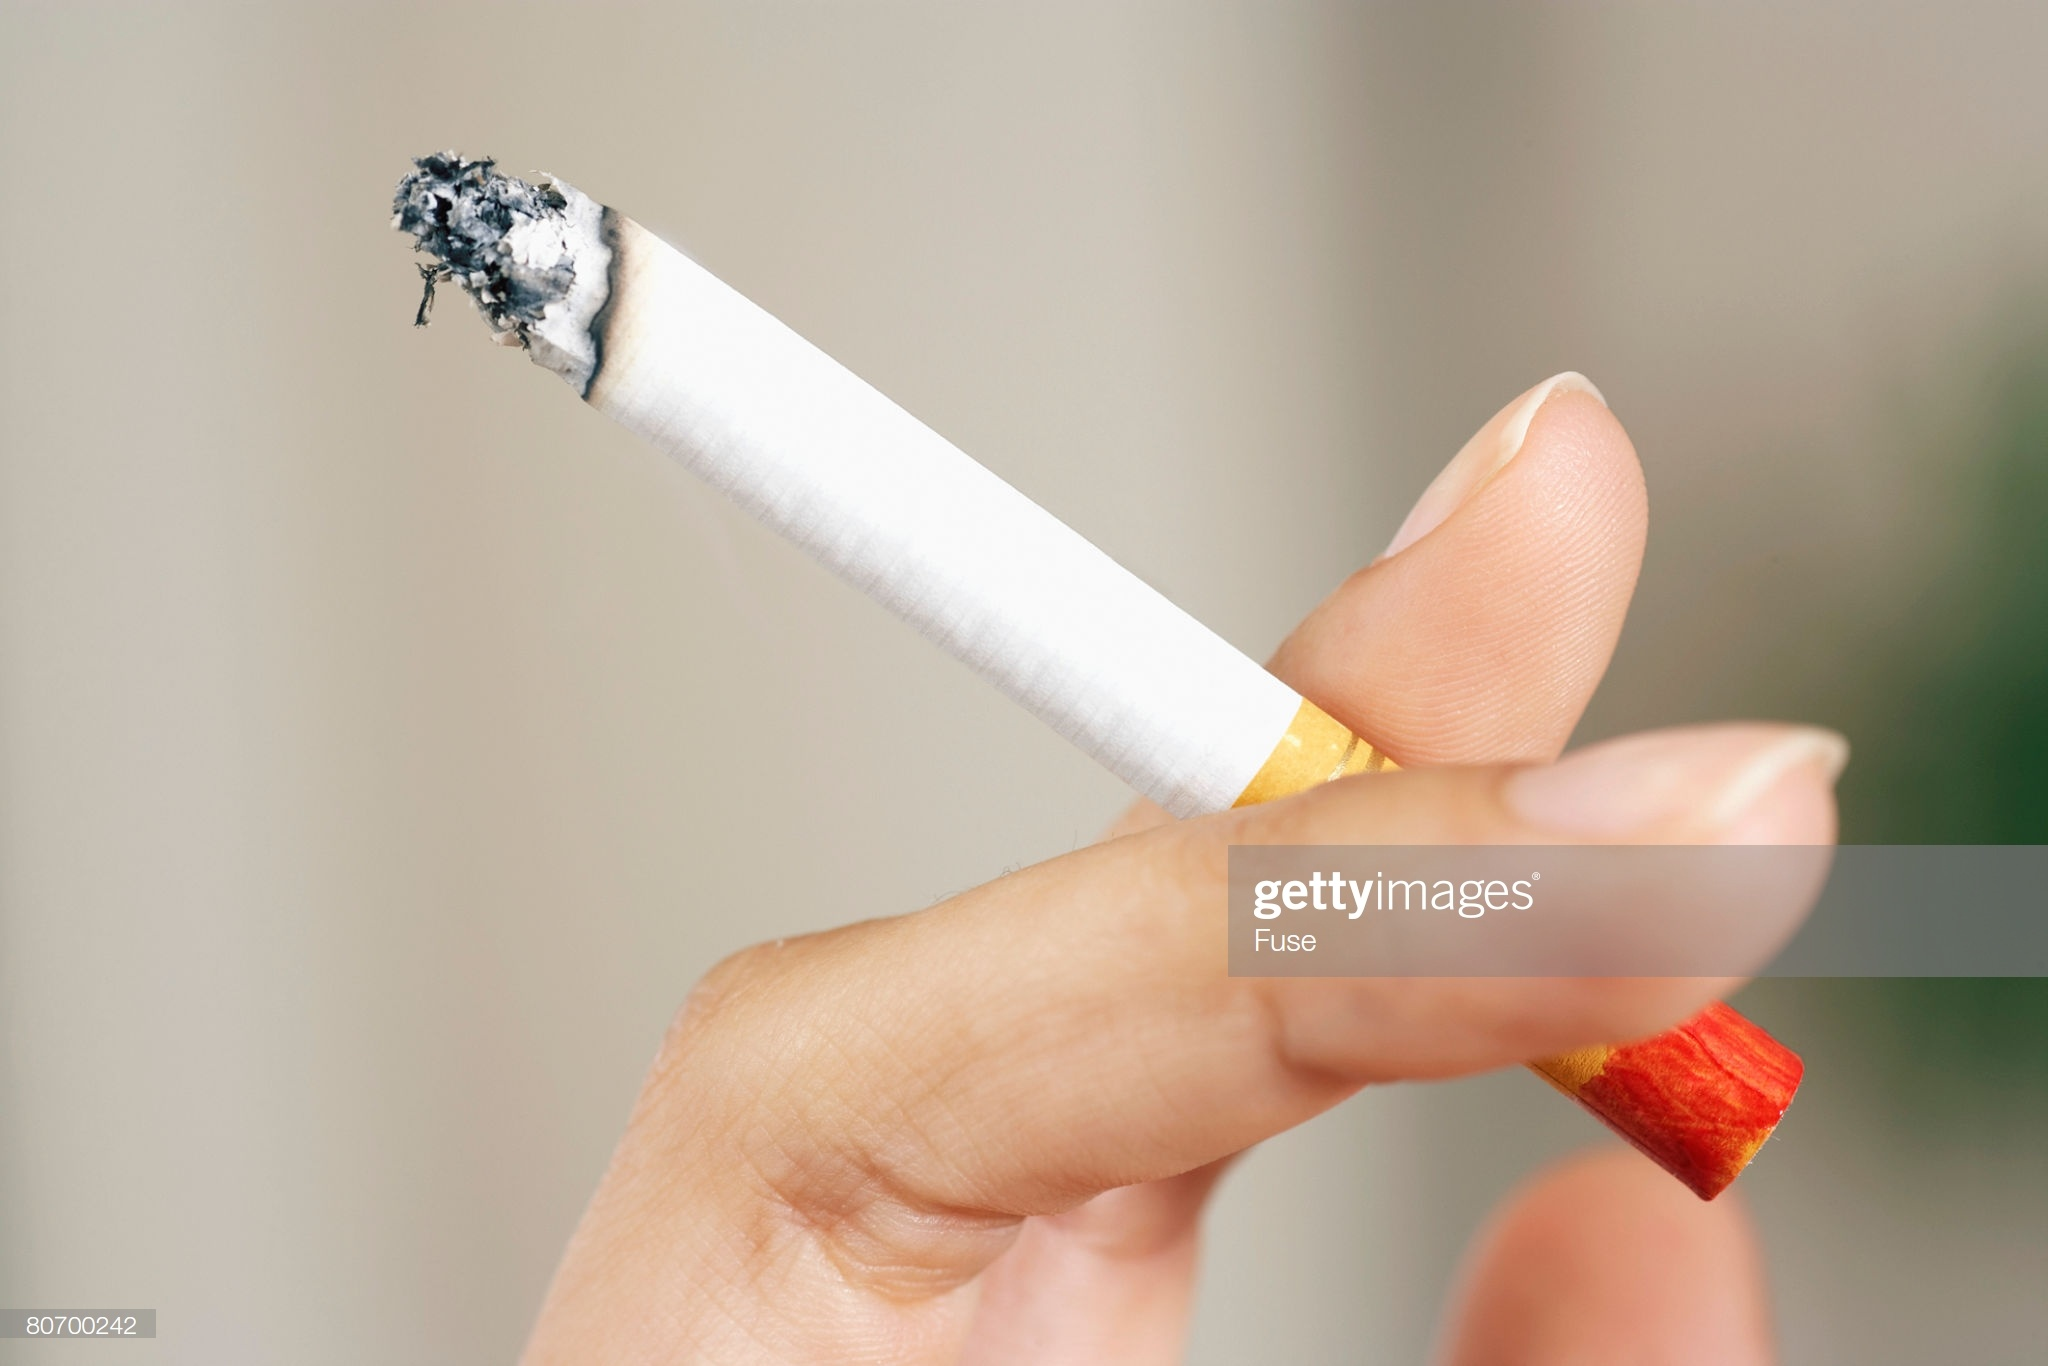sigaretta: (396, 127, 1777, 1142)
